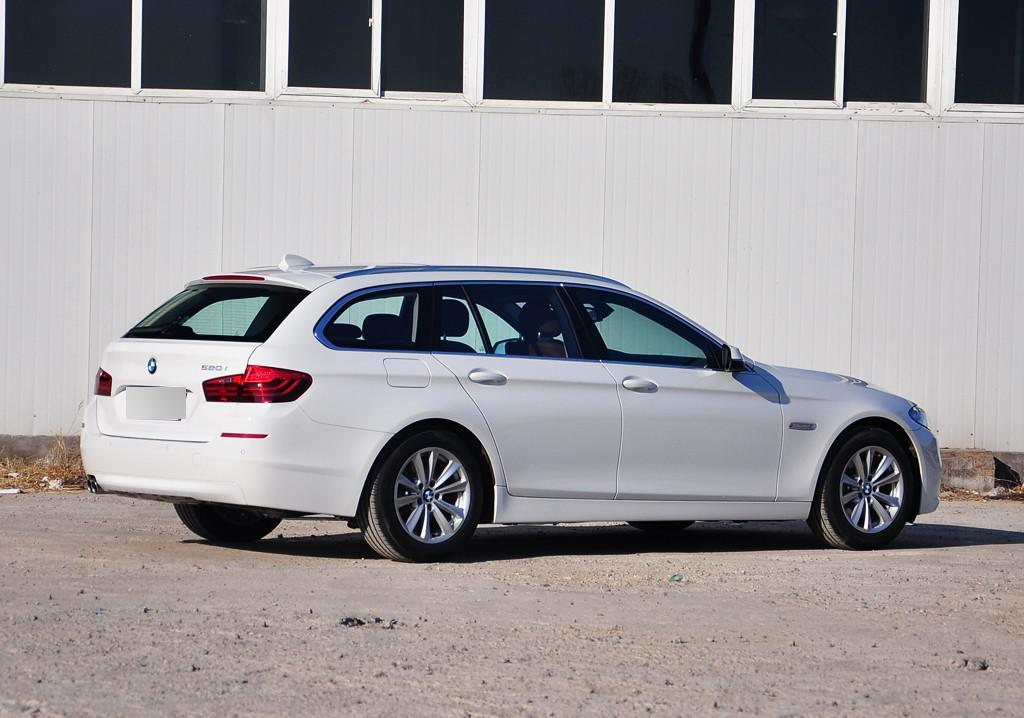Wagon: (81, 252, 944, 565)
